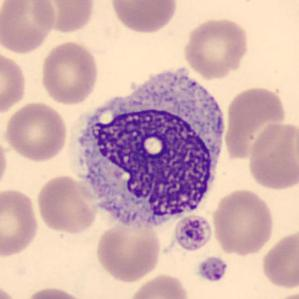Monocyte: (66, 60, 229, 232)
Platelets: (172, 214, 213, 253), (195, 256, 229, 284)
RBC: (222, 84, 289, 161), (93, 214, 163, 284), (210, 187, 277, 256), (2, 100, 70, 163), (182, 17, 251, 79), (38, 40, 101, 106), (34, 173, 100, 235), (245, 119, 298, 192), (0, 0, 58, 55), (0, 186, 41, 259), (259, 227, 298, 291), (108, 0, 179, 35), (30, 1, 98, 35), (0, 48, 29, 117), (124, 272, 192, 299), (173, 213, 214, 253), (22, 285, 88, 299), (0, 131, 10, 193), (0, 281, 21, 299), (268, 288, 299, 299)
